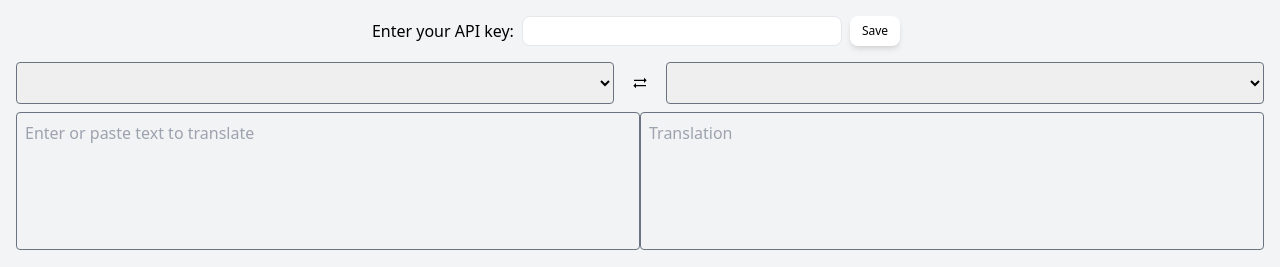
Test: User enters api key and enters translation query
The width and height of the screenshot is (1280, 267).
Type "111111111111111111111111111111111111" into the field labelled "Enter your API key:" at (682, 31), box [522,16,842,46]
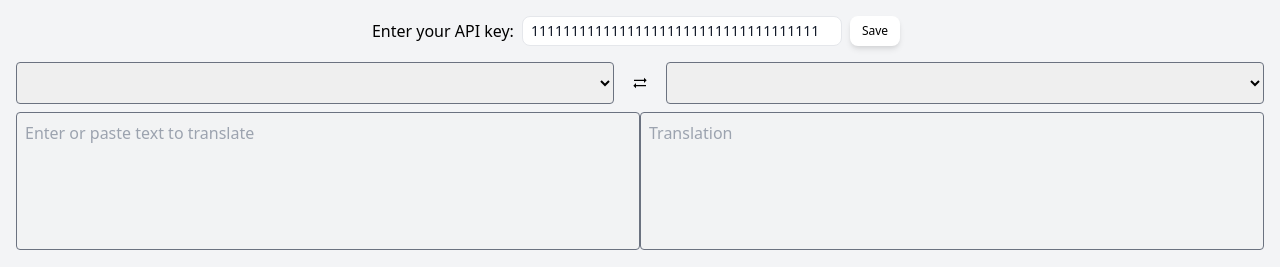
Click the button "Save" at (875, 31), box [850,16,900,46]
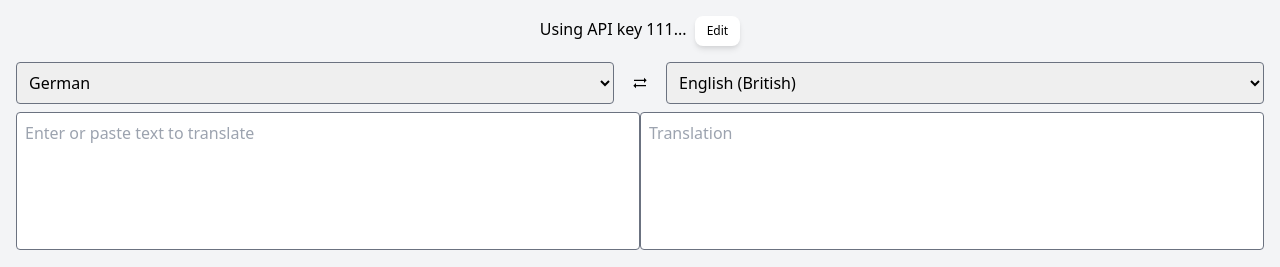
Check: the 1st dropdown showing "German" is shown, box [16,62,614,104]
Type "Hallo Welt" into the text box with placeholder "Enter or paste text to translate" at (328, 181), box [16,112,640,250]
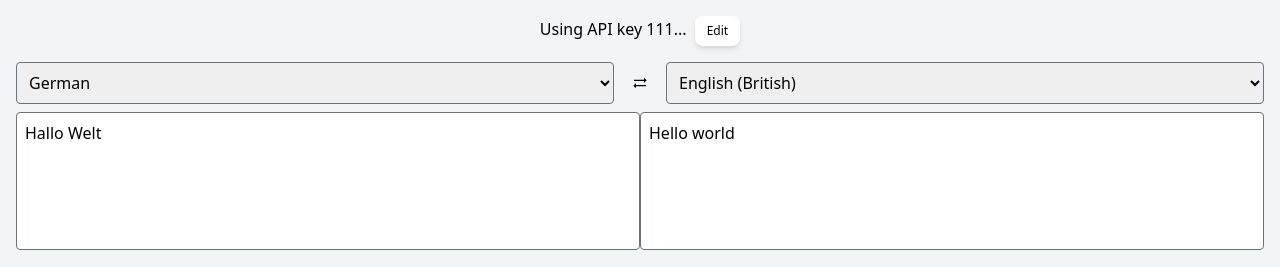
Check: the 2nd text box "Hello world" is shown, box [640,112,1264,250]
